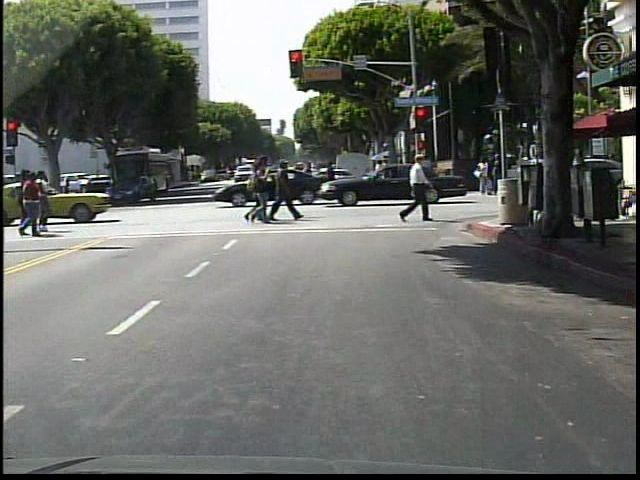person: (395, 144, 437, 230)
